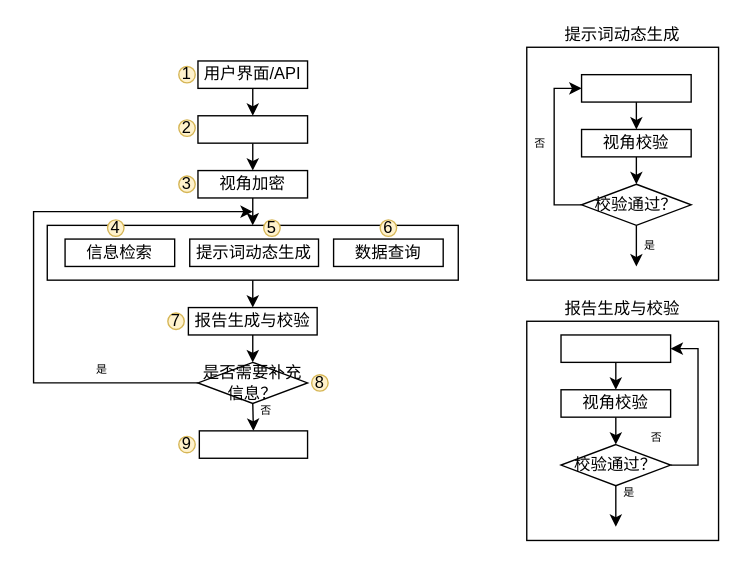
Some shapes in this 743 by 564 pixel diagram are drawn without their labels. Each missing label, with the centre of its shape:
"唯独拓展" goes at (x=252, y=128).
"报告生成" goes at (x=615, y=348).
"提示词生成" goes at (x=635, y=87).
"结束" goes at (x=253, y=443).
